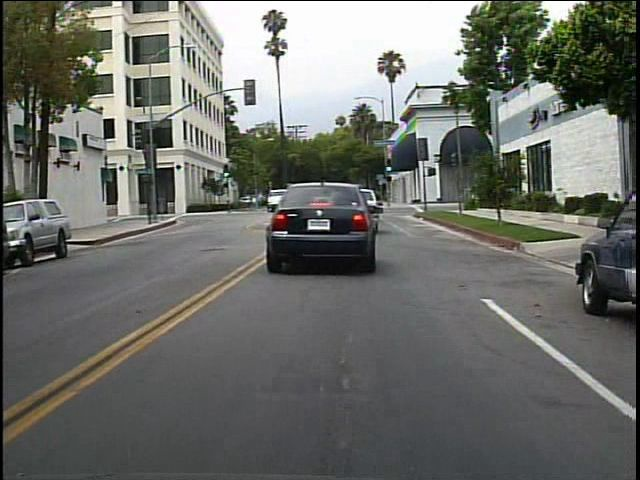person: (293, 183, 319, 221)
